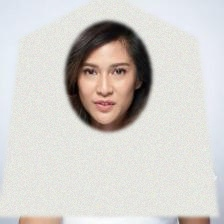Mukena: (0, 0, 218, 216)
